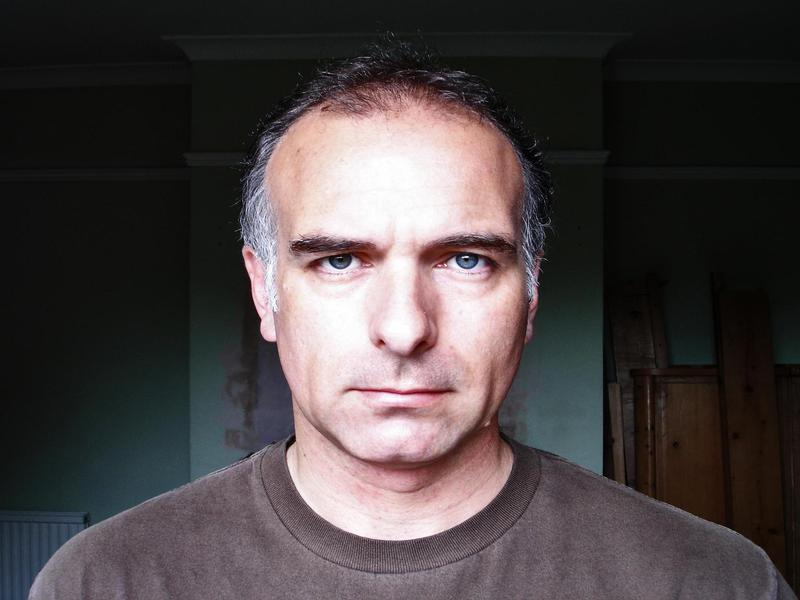person: (21, 26, 796, 599)
